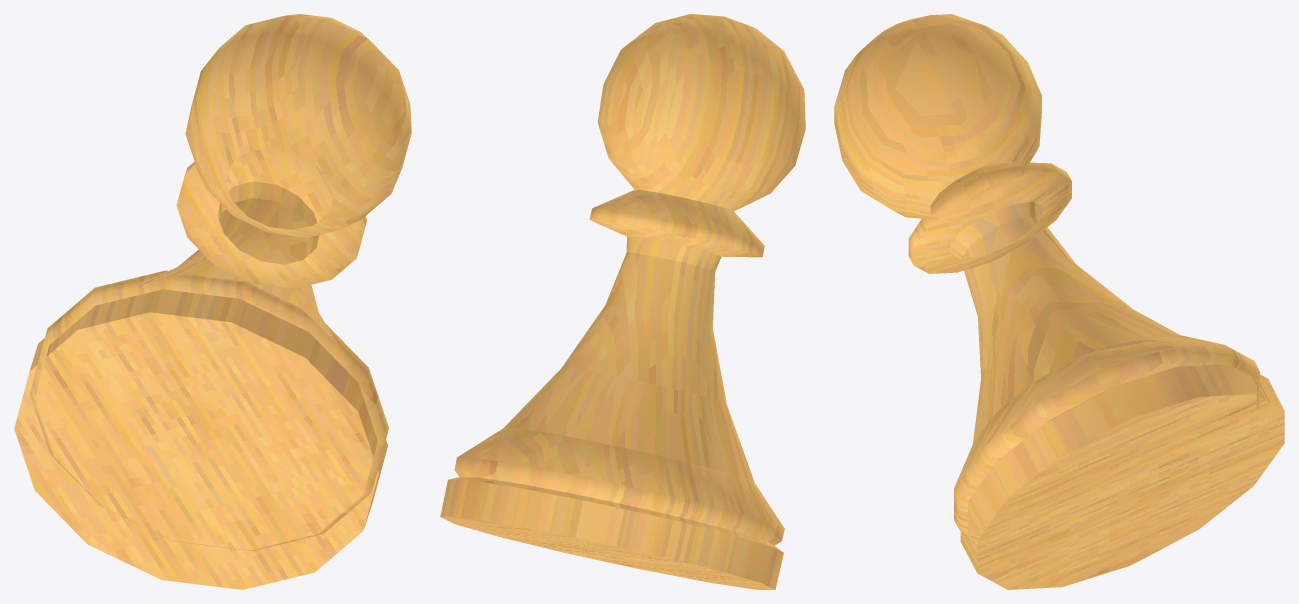
Rendered from ps2_save-icons_chessmaster.glb.
3 views of the same model, side by side, from view 1: azimuth 30°, elevation 25°; view 2: azimuth 150°, elevation 25°; view 3: azimuth 270°, elevation 25° (orthographic). The views are drawn at different scales.
Parts seen in each view (by area): view 1: cm.ico; view 2: cm.ico; view 3: cm.ico.
Boxes of the visible parts, x1,y1,x2,y2 form: cm.ico: (14,14,411,589); cm.ico: (440,14,805,589); cm.ico: (834,14,1284,589).
Size of the model in its own units: 1.39 by 2.35 by 1.8.
1 material, 1 textured.
